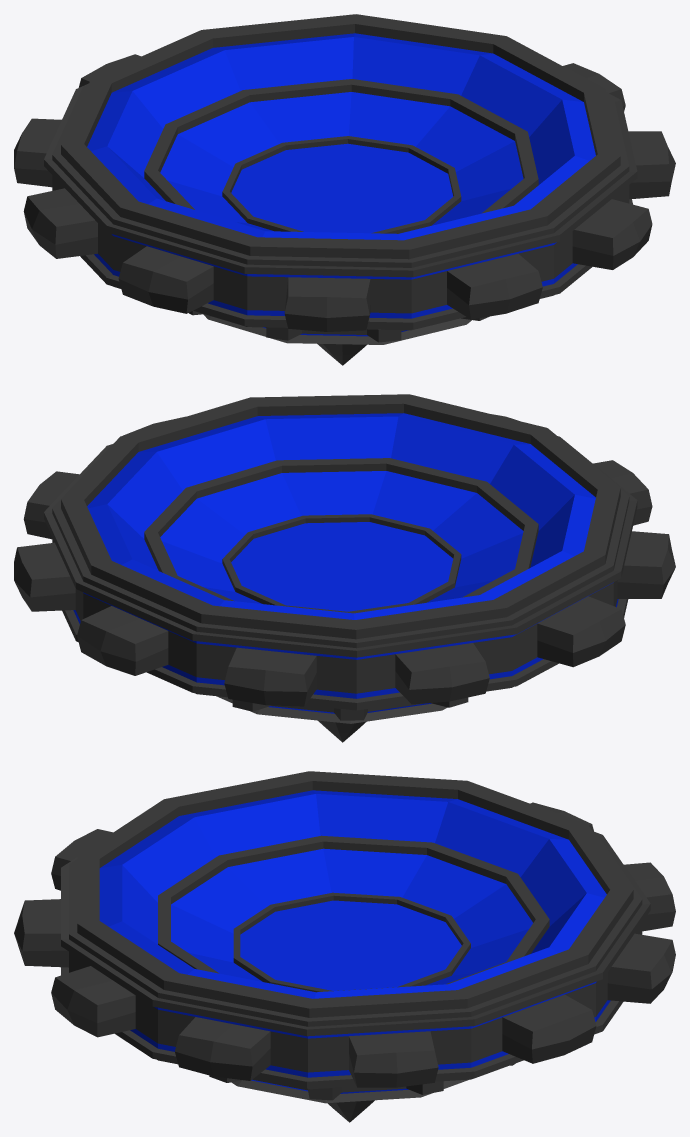
Rendered from Toupie4.fbx.
The picture shows the model from 3 angles, top to bottom: view 1: azimuth 30°, elevation 25°; view 2: azimuth 150°, elevation 25°; view 3: azimuth 270°, elevation 25°; orthographic projection.
Parts seen in each view (by area): view 1: Cylinder.010, Cylinder.009, Cylinder.008; view 2: Cylinder.010, Cylinder.009; view 3: Cylinder.010, Cylinder.009, Cylinder.008.
Part boxes in pixels (x1,y1,x2,y2): Cylinder.010: (14, 14, 675, 331); Cylinder.009: (189, 311, 489, 344); Cylinder.008: (317, 343, 366, 365); Cylinder.010: (14, 394, 675, 710); Cylinder.009: (217, 696, 468, 723); Cylinder.010: (14, 771, 675, 1089); Cylinder.009: (209, 1063, 515, 1103); Cylinder.008: (328, 1100, 374, 1122).
Size of the model in its own units: 735 by 284 by 732.
